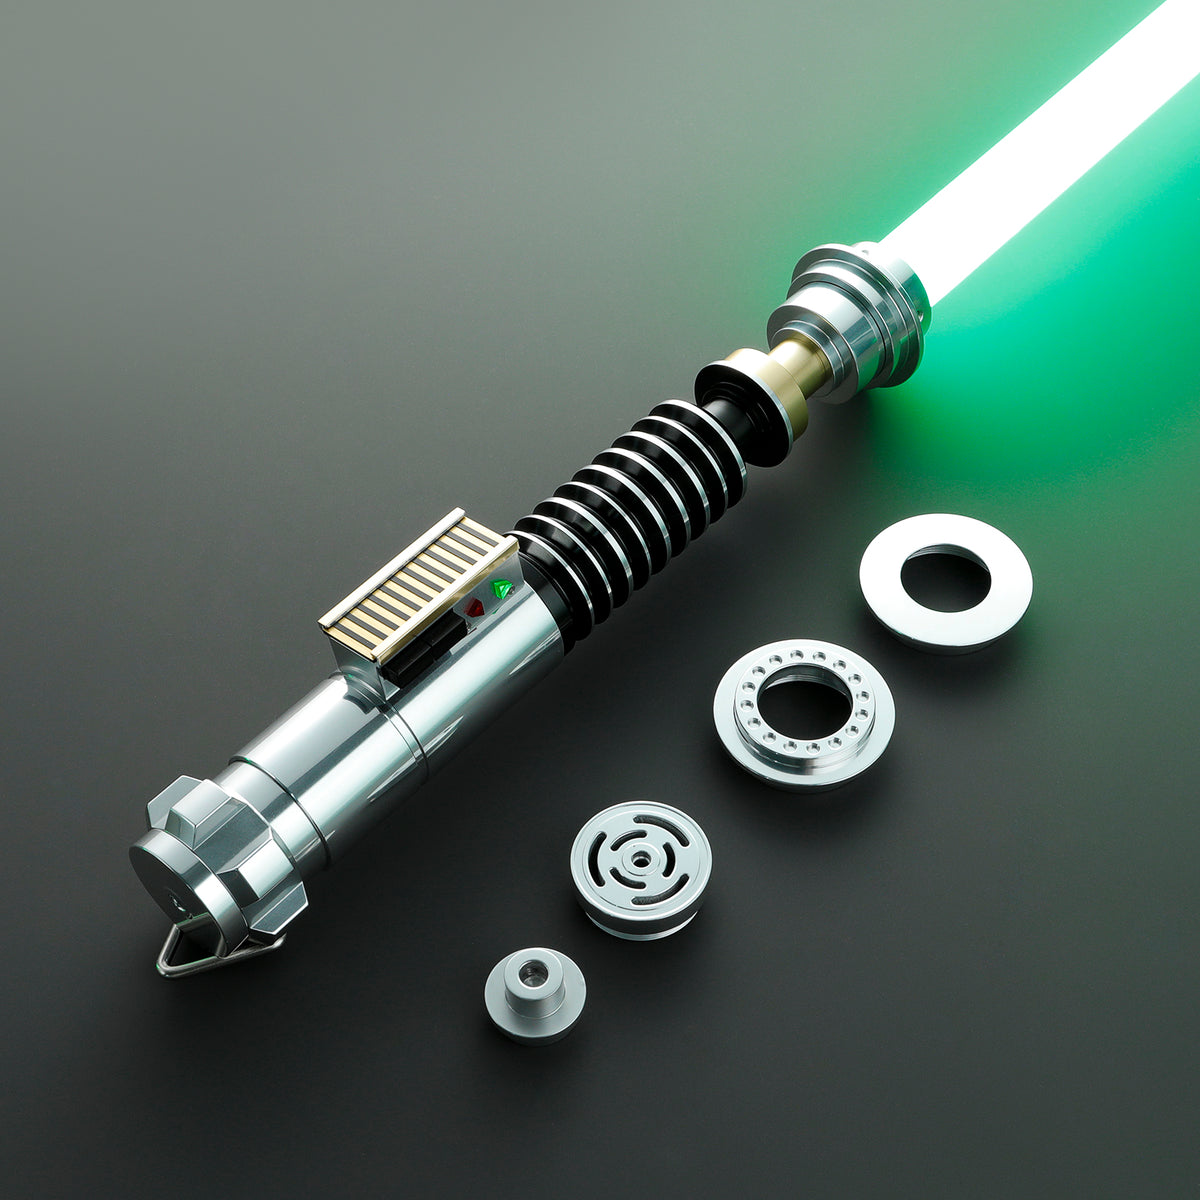lightsaber: (14, 0, 1200, 1038)
